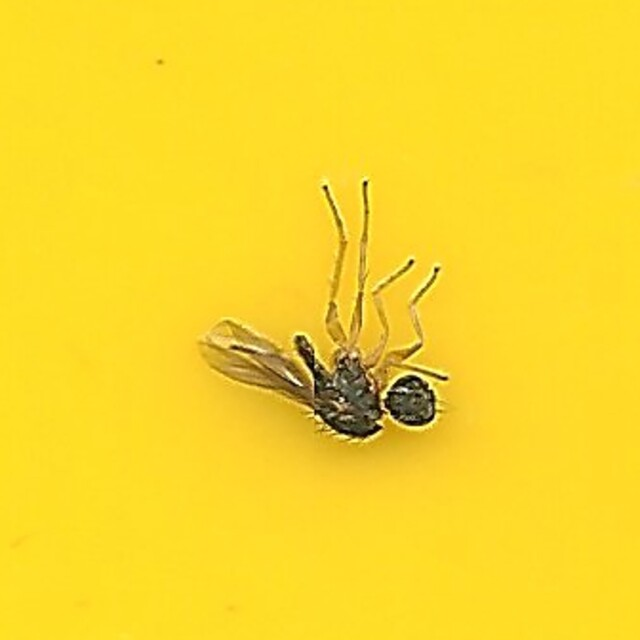Brachycera: (190, 181, 450, 459)
